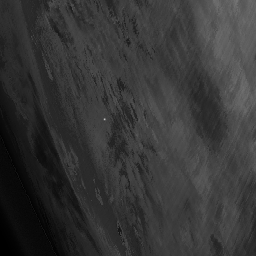Target: (102, 117, 107, 122)
